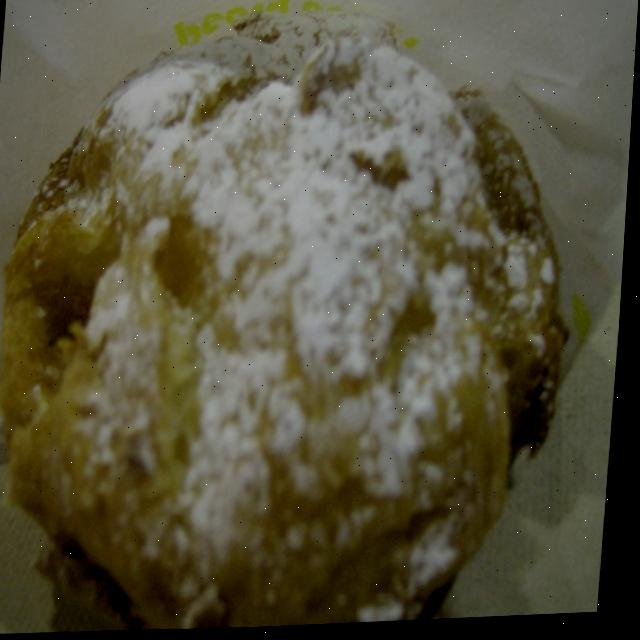炸货点心: (0, 0, 607, 618)
蛋糕甜品: (0, 0, 607, 618)
